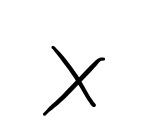mult: (43, 45, 105, 116)
